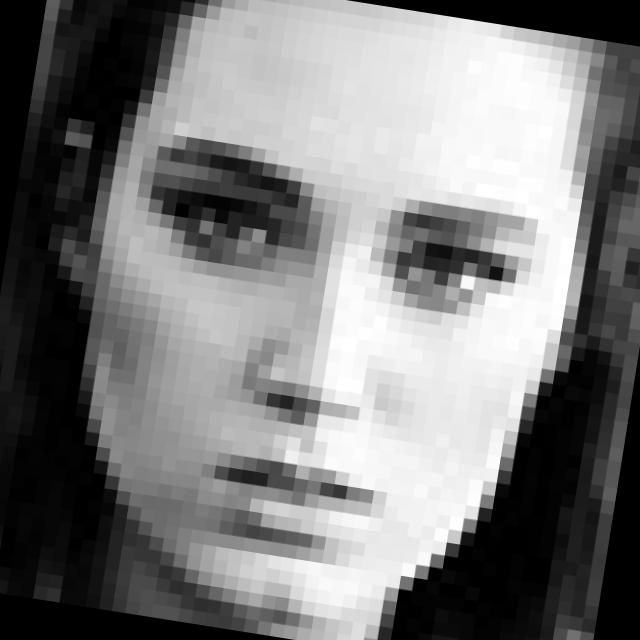neutral: (85, 116, 558, 590)
